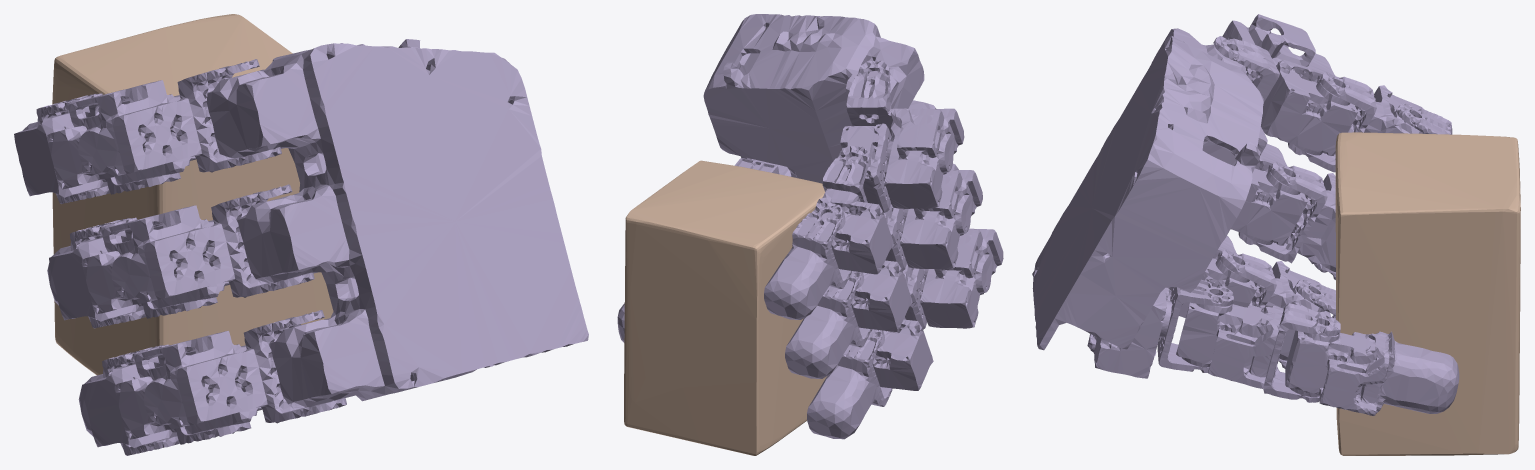
The model's file is case-08-final.glb.
3 renders of one model, left to right at view 1: azimuth 30°, elevation 25°; view 2: azimuth 150°, elevation 25°; view 3: azimuth 270°, elevation 25°, orthographic. The views are drawn at different scales.
Parts seen in each view (by area): view 1: world, surface.obj; view 2: world, surface.obj; view 3: world, surface.obj.
Part boxes in pixels (left/top/right/bottom): world: left=14, top=39, right=588, bottom=455; surface.obj: left=52, top=14, right=333, bottom=375; world: left=617, top=14, right=1003, bottom=439; surface.obj: left=624, top=160, right=826, bottom=455; world: left=1032, top=14, right=1459, bottom=416; surface.obj: left=1335, top=132, right=1520, bottom=455.
Size of the model in its own units: 0.1543 by 0.1789 by 0.2054.
